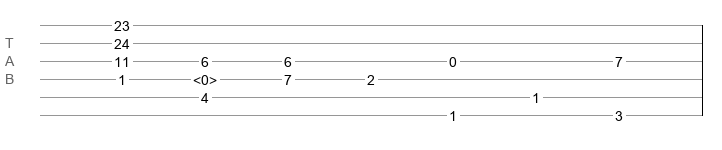0: (449, 54, 457, 64)
1: (118, 72, 126, 82), (449, 108, 457, 118), (532, 90, 540, 100)
11: (114, 54, 130, 64)
2: (367, 72, 375, 82)
23: (114, 18, 130, 28)
24: (114, 36, 130, 46)
3: (615, 108, 623, 118)
4: (201, 90, 209, 100)
6: (201, 54, 209, 64), (284, 54, 292, 64)
7: (284, 72, 292, 82), (615, 54, 623, 64)
harmonic: (193, 72, 217, 82)
